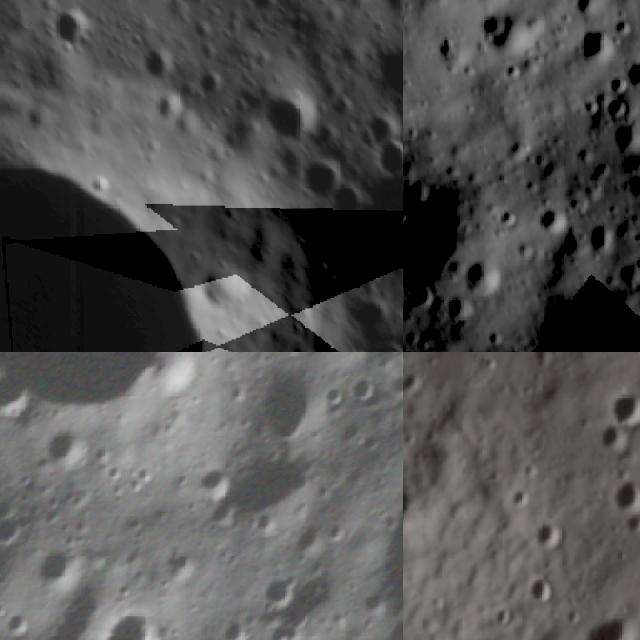crater: (1, 54, 355, 352), (0, 352, 206, 431), (403, 187, 489, 302), (250, 368, 338, 456), (253, 82, 319, 147), (31, 534, 89, 602), (36, 421, 100, 478), (369, 28, 403, 119), (292, 151, 344, 208), (320, 185, 373, 240), (99, 602, 173, 640), (44, 8, 100, 58), (256, 566, 307, 620), (189, 456, 241, 505), (565, 23, 621, 67), (0, 375, 42, 424), (470, 3, 519, 43), (576, 610, 636, 640), (366, 140, 403, 185), (533, 204, 571, 245), (347, 372, 386, 410), (403, 472, 424, 541), (589, 419, 628, 456), (471, 260, 510, 296), (607, 387, 640, 428), (530, 514, 566, 551), (585, 222, 618, 256), (609, 119, 640, 155), (526, 573, 560, 604), (351, 333, 403, 352), (612, 477, 640, 511), (626, 51, 640, 98), (628, 205, 640, 257)
